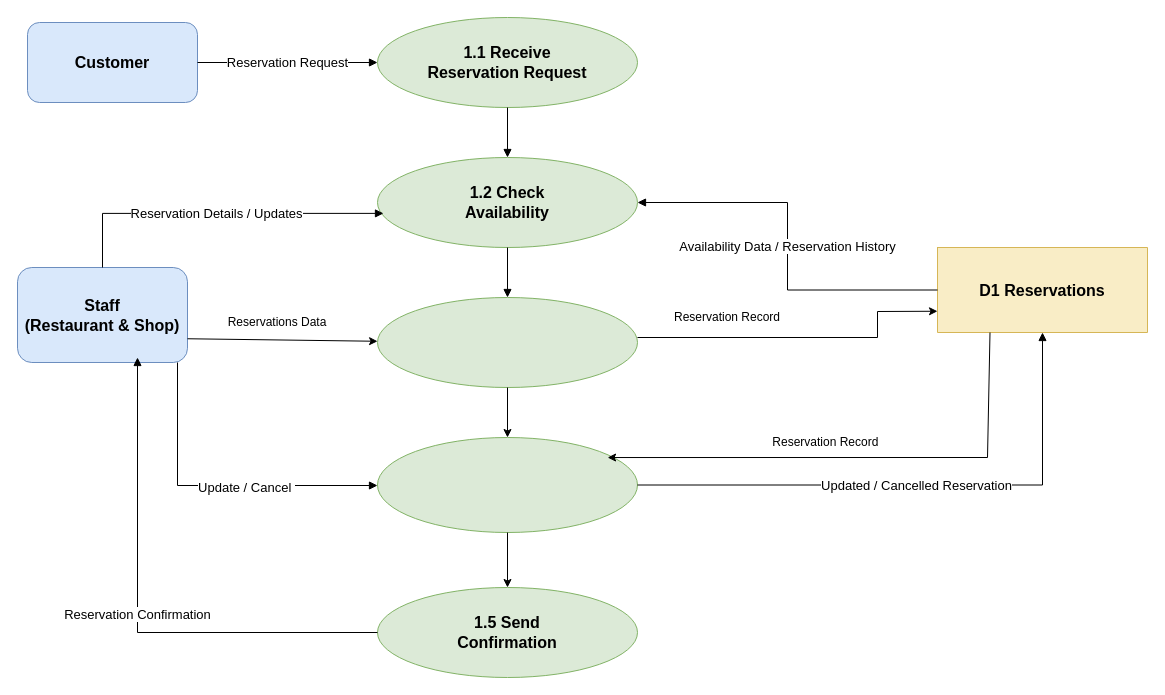
This 1165x695 diagram has some shape labels left out. The shapes that lost their labels are listed below. From the top down, each one's centre as x and y in pixels, then its label:
(x=507, y=342): 1.3 Record Reservation
(x=507, y=484): 1.4 Update / Cancel Reservation
